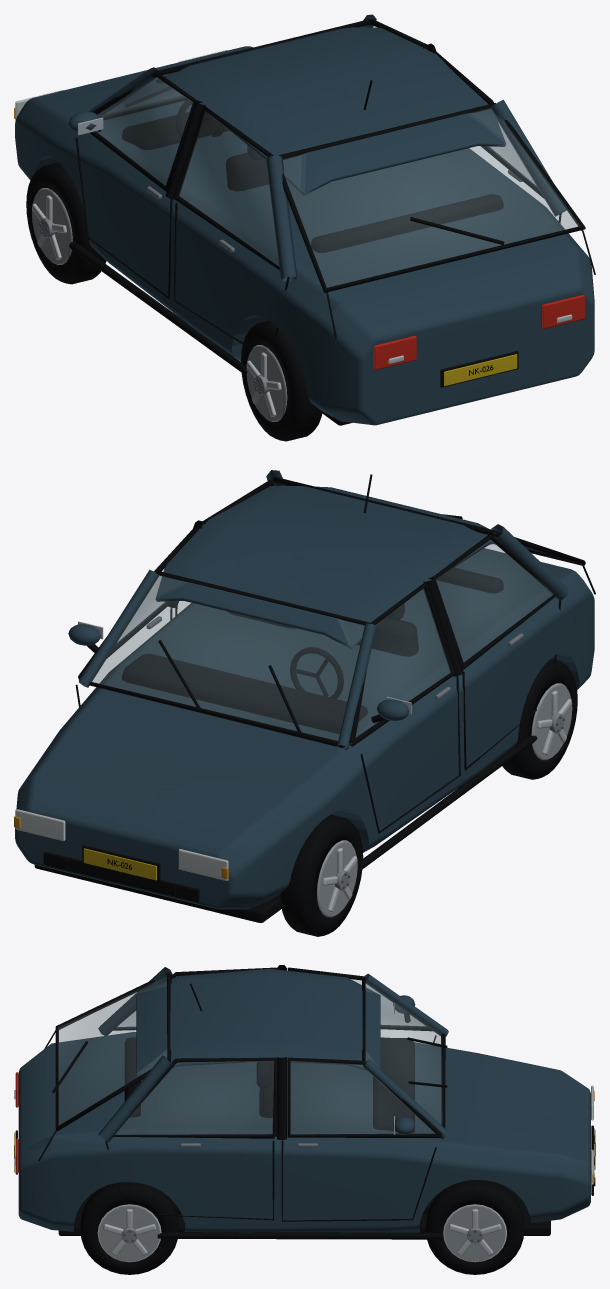
The model's file is civilian_hatchback.glb.
3 views of the same model, one above another, from view 1: azimuth 30°, elevation 25°; view 2: azimuth 150°, elevation 25°; view 3: azimuth 270°, elevation 25° (orthographic). The views are drawn at different scales.
Visible parts, largest first — view 1: HatchbackBodySurface, Wheel_LRSurface, Wheel_LFSurface; view 2: HatchbackBodySurface, Wheel_LFSurface, Wheel_LRSurface; view 3: HatchbackBodySurface, Wheel_RFSurface, Wheel_RRSurface.
Part boxes in pixels (x1,y1,x2,y2): HatchbackBodySurface: [14, 14, 595, 425]; Wheel_LRSurface: [241, 320, 322, 441]; Wheel_LFSurface: [26, 162, 106, 284]; HatchbackBodySurface: [14, 470, 595, 922]; Wheel_LFSurface: [280, 814, 363, 936]; Wheel_LRSurface: [502, 659, 577, 779]; HatchbackBodySurface: [14, 965, 595, 1239]; Wheel_RFSurface: [426, 1180, 524, 1274]; Wheel_RRSurface: [80, 1182, 178, 1274].
Bounding box in the file's own units: 2.01 × 1.68 × 3.72.
4 materials, 3 textured.
